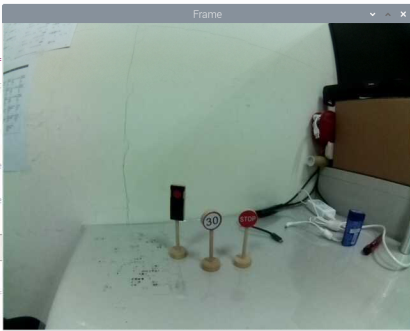Red: (164, 181, 189, 225)
Speed30: (200, 210, 224, 233)
Stop: (238, 207, 259, 229)
